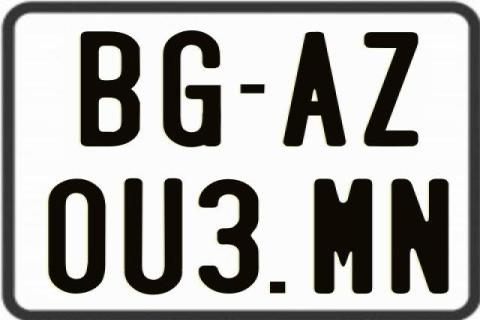0: (197, 179, 262, 297), (46, 177, 106, 297)
A: (283, 32, 350, 150)
B: (80, 32, 142, 150)
G: (162, 30, 221, 152)
M: (314, 177, 376, 297)
N: (388, 176, 452, 294)
U: (123, 178, 185, 298)
Z: (361, 32, 416, 148)
